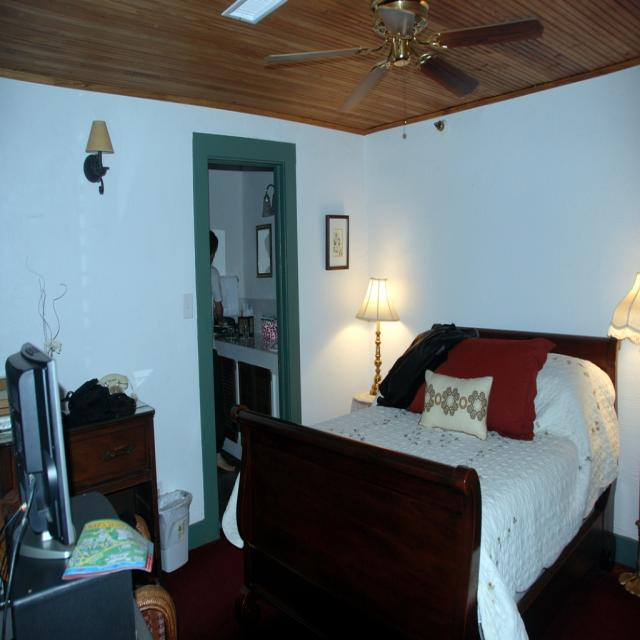Bulb: (265, 0, 544, 128)
